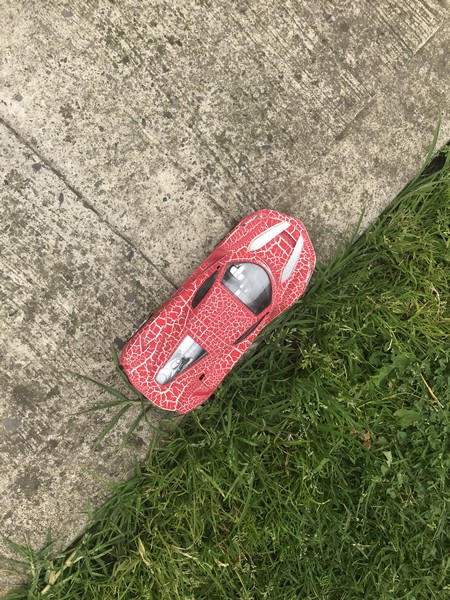RC: (117, 207, 318, 416)
